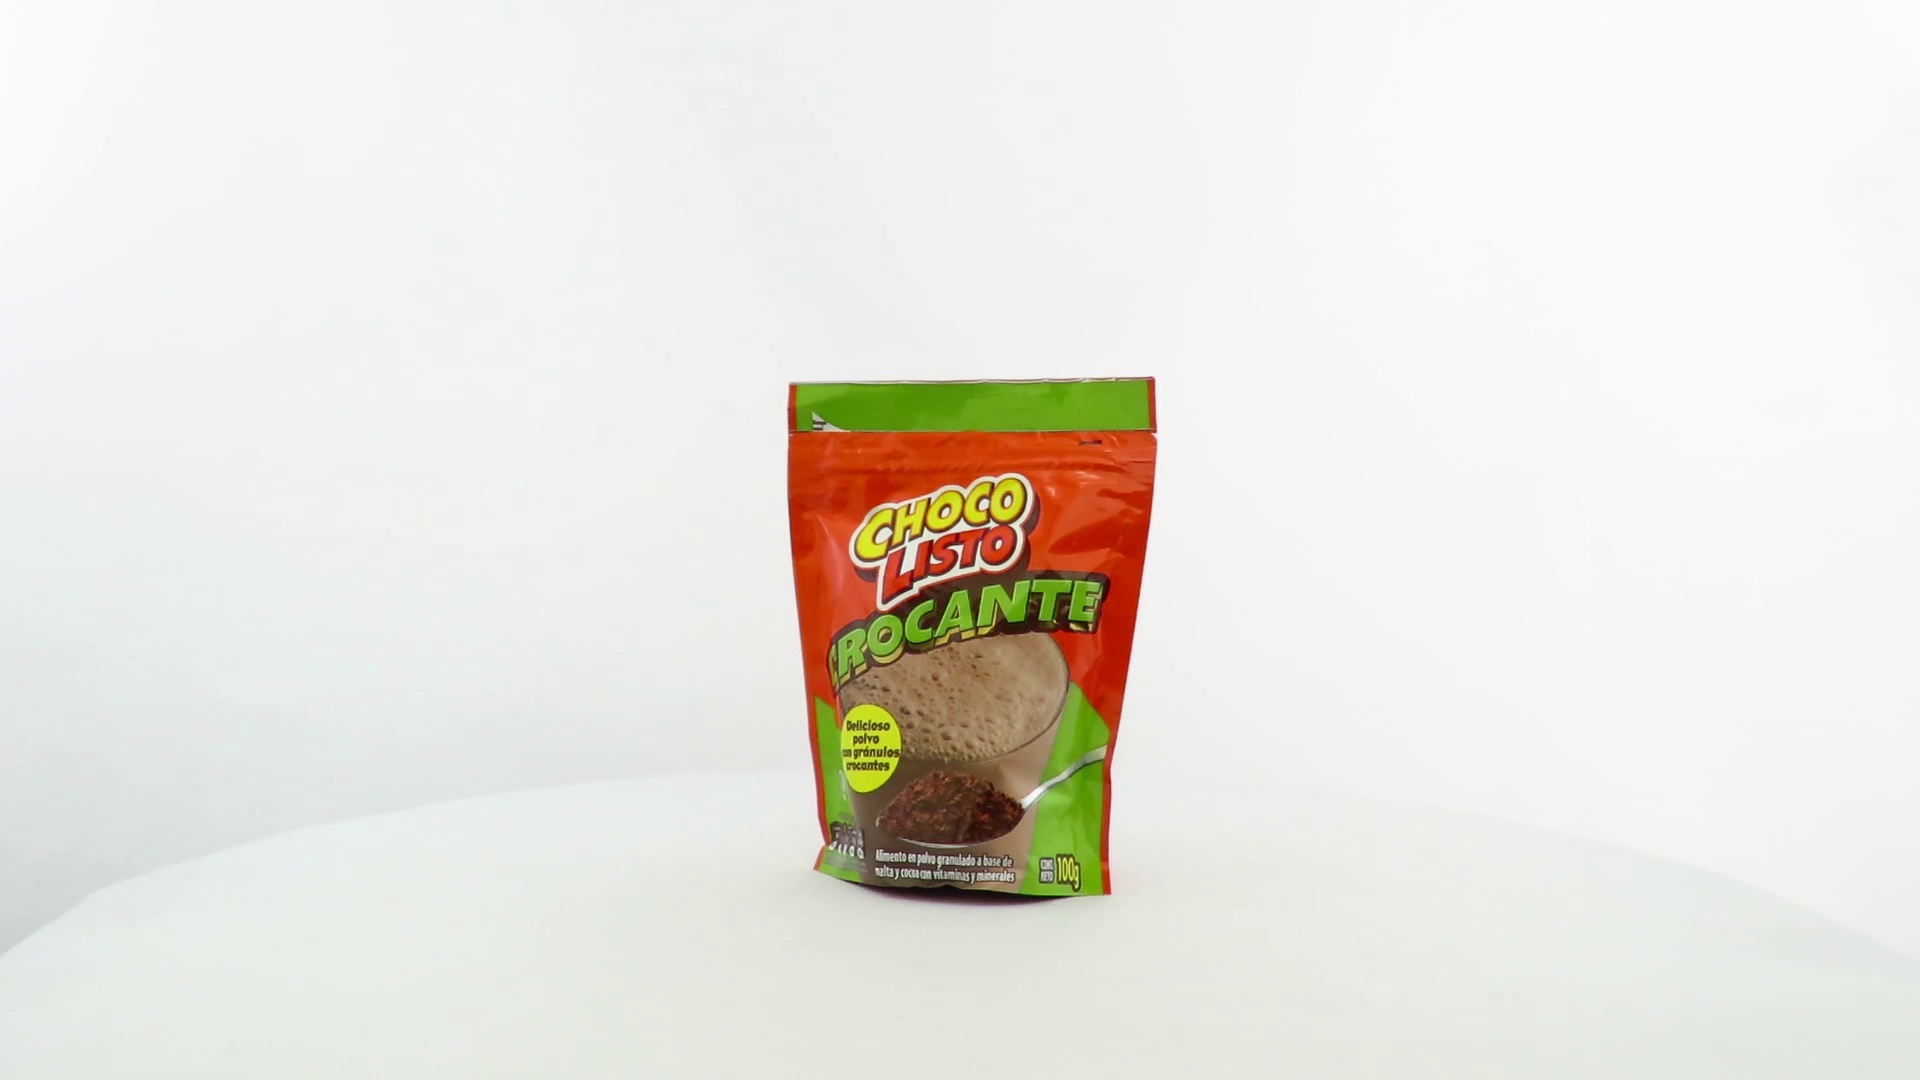COL0170102DYP10000: (782, 371, 1164, 913)
